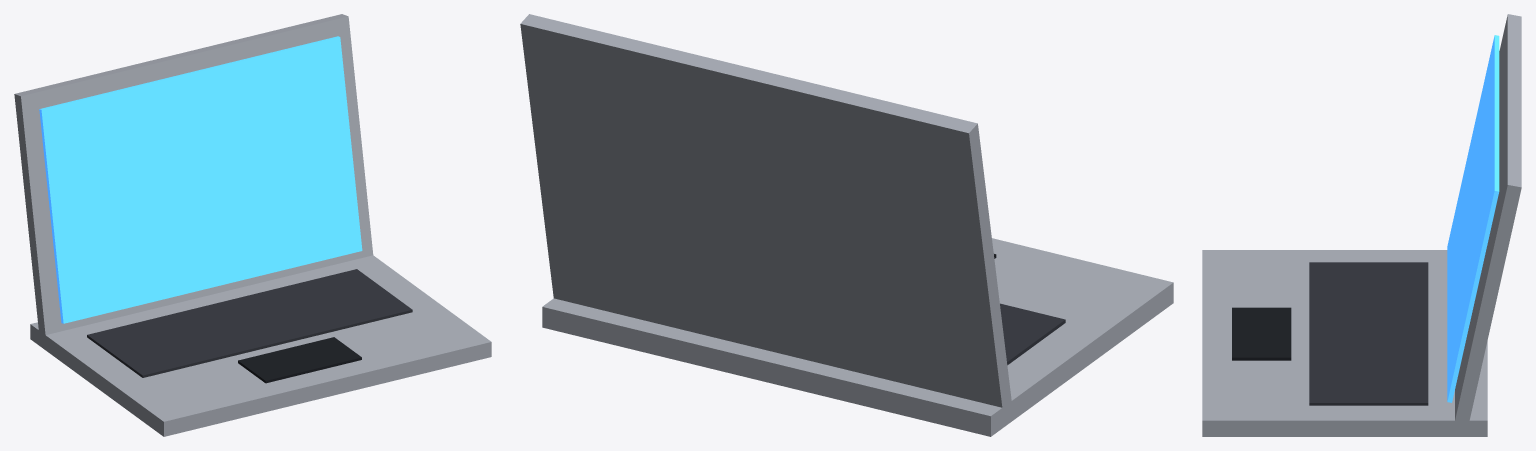
File: laptop.glb
3 renders of one model, left to right at view 1: azimuth 30°, elevation 25°; view 2: azimuth 150°, elevation 25°; view 3: azimuth 270°, elevation 25°, orthographic. The views are drawn at different scales.
Parts seen in each view (by area): view 1: laptop; view 2: laptop; view 3: laptop.
Boxes of the visible parts, x1,y1,x2,y2 form: laptop: (14, 14, 491, 436); laptop: (520, 14, 1173, 436); laptop: (1202, 14, 1521, 436).
Size of the model in its own units: 0.34 by 0.2339 by 0.2687.
